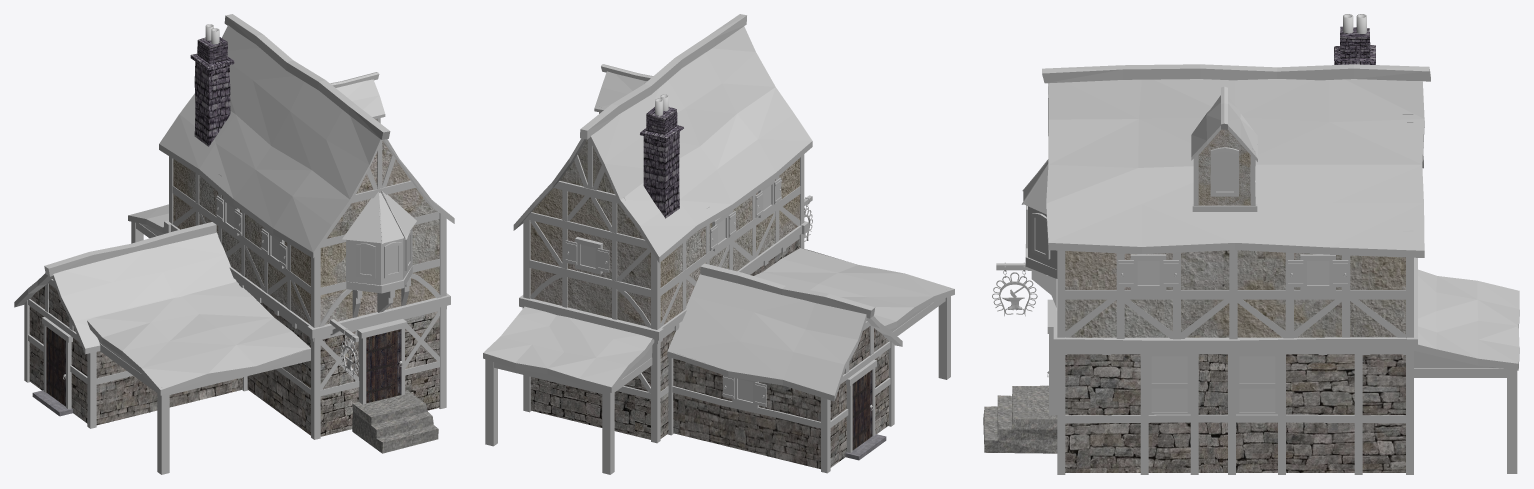
Rendered from Blacksmith2.dae.
The picture shows the model from 3 angles, left to right: view 1: azimuth 30°, elevation 25°; view 2: azimuth 150°, elevation 25°; view 3: azimuth 270°, elevation 25°; orthographic projection. The views are drawn at different scales.
Parts seen in each view (by area): view 1: Roof, WoodenBeams, Level1, Level2, RoofFrame, Steps, Chimney, DoorFront, WoodenBeamsExtraFront, WindowFrames, DoorFrontFrame, DoorSide (+3 smaller); view 2: Roof, WoodenBeams, Level1, Level2, RoofFrame, Chimney, WoodenBeamsExtraBack, WindowFrames, WoodenBeamsExtraFront, DoorSide, DoorSideFrame; view 3: Roof, WoodenBeams, Level1, Level2, RoofFrame, WindowFrames, Steps, WoodenBeamsExtraBack, Level3, Window1Level1, Window2Level1, Chimney (+5 smaller).
Boxes of the visible parts, left/top/right/bottom form: Roof: left=53, top=25, right=451, bottom=389; WoodenBeams: left=24, top=118, right=450, bottom=439; Level1: left=29, top=284, right=439, bottom=436; Level2: left=173, top=141, right=439, bottom=324; RoofFrame: left=14, top=14, right=454, bottom=395; Steps: left=352, top=390, right=438, bottom=453; Chimney: left=190, top=37, right=234, bottom=146; DoorFront: left=366, top=329, right=401, bottom=403; WoodenBeamsExtraFront: left=97, top=338, right=310, bottom=474; WindowFrames: left=216, top=195, right=411, bottom=278; DoorFrontFrame: left=357, top=319, right=407, bottom=404; DoorSide: left=46, top=327, right=65, bottom=406; Roof: left=483, top=26, right=953, bottom=395; WoodenBeams: left=519, top=112, right=894, bottom=473; Level1: left=530, top=239, right=888, bottom=469; Level2: left=530, top=139, right=799, bottom=326; RoofFrame: left=483, top=14, right=954, bottom=401; Chimney: left=640, top=107, right=683, bottom=218; WoodenBeamsExtraBack: left=485, top=345, right=652, bottom=474; WindowFrames: left=565, top=177, right=781, bottom=408; WoodenBeamsExtraFront: left=890, top=288, right=950, bottom=379; DoorSide: left=852, top=370, right=872, bottom=450; DoorSideFrame: left=845, top=359, right=876, bottom=452; Roof: left=1023, top=79, right=1519, bottom=363; WoodenBeams: left=1021, top=114, right=1417, bottom=474; Level1: left=1065, top=354, right=1405, bottom=472; Level2: left=1065, top=250, right=1405, bottom=337; RoofFrame: left=1042, top=64, right=1519, bottom=370; WindowFrames: left=1026, top=147, right=1348, bottom=414; Steps: left=983, top=385, right=1057, bottom=453; WoodenBeamsExtraBack: left=1414, top=344, right=1517, bottom=473; Level3: left=1198, top=129, right=1250, bottom=205; Window1Level1: left=1151, top=356, right=1187, bottom=412; Window2Level1: left=1239, top=356, right=1275, bottom=412; Chimney: left=1334, top=26, right=1375, bottom=64.
Bounding box in the file's own units: 9.83 × 12.14 × 9.81.
